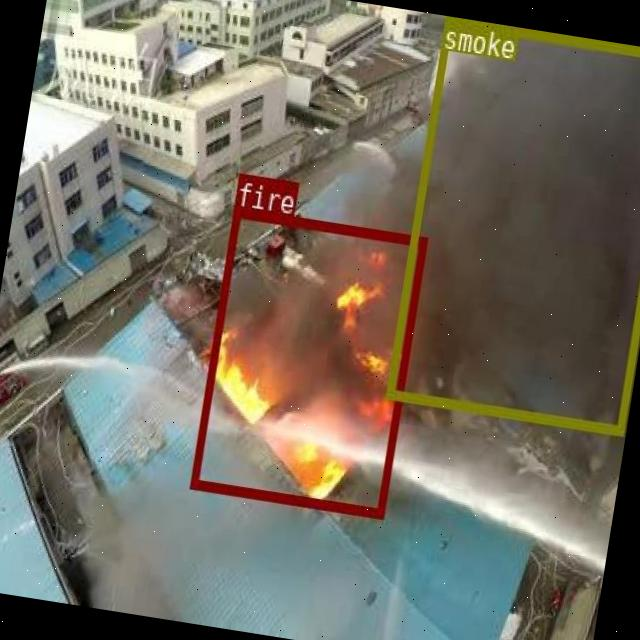fire: (190, 205, 428, 518)
smoke: (385, 15, 640, 434)
